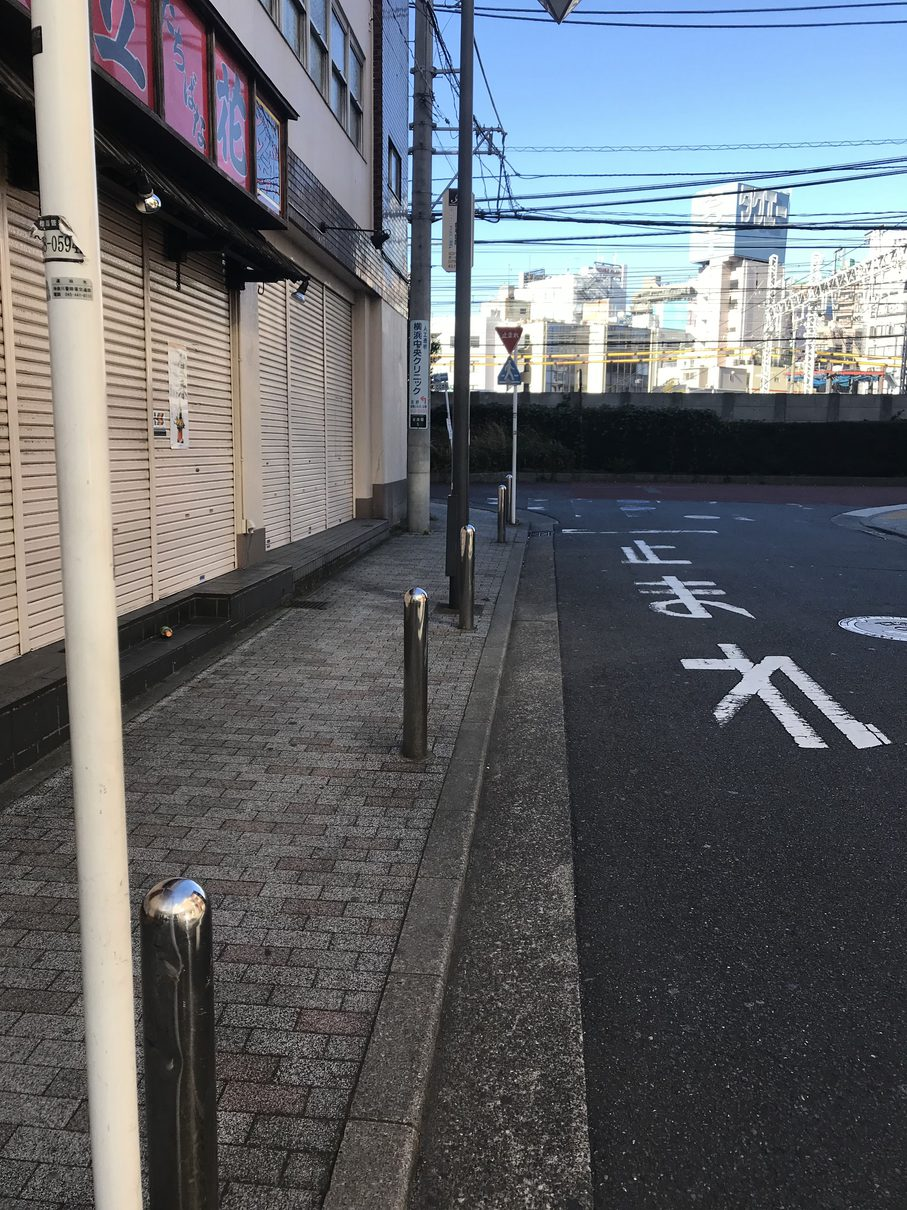stop_sign: (494, 324, 523, 355)
